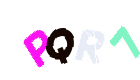7: (59, 0, 139, 80)
P: (0, 0, 80, 80)
Q: (20, 0, 100, 80)
R: (30, 0, 110, 80)
